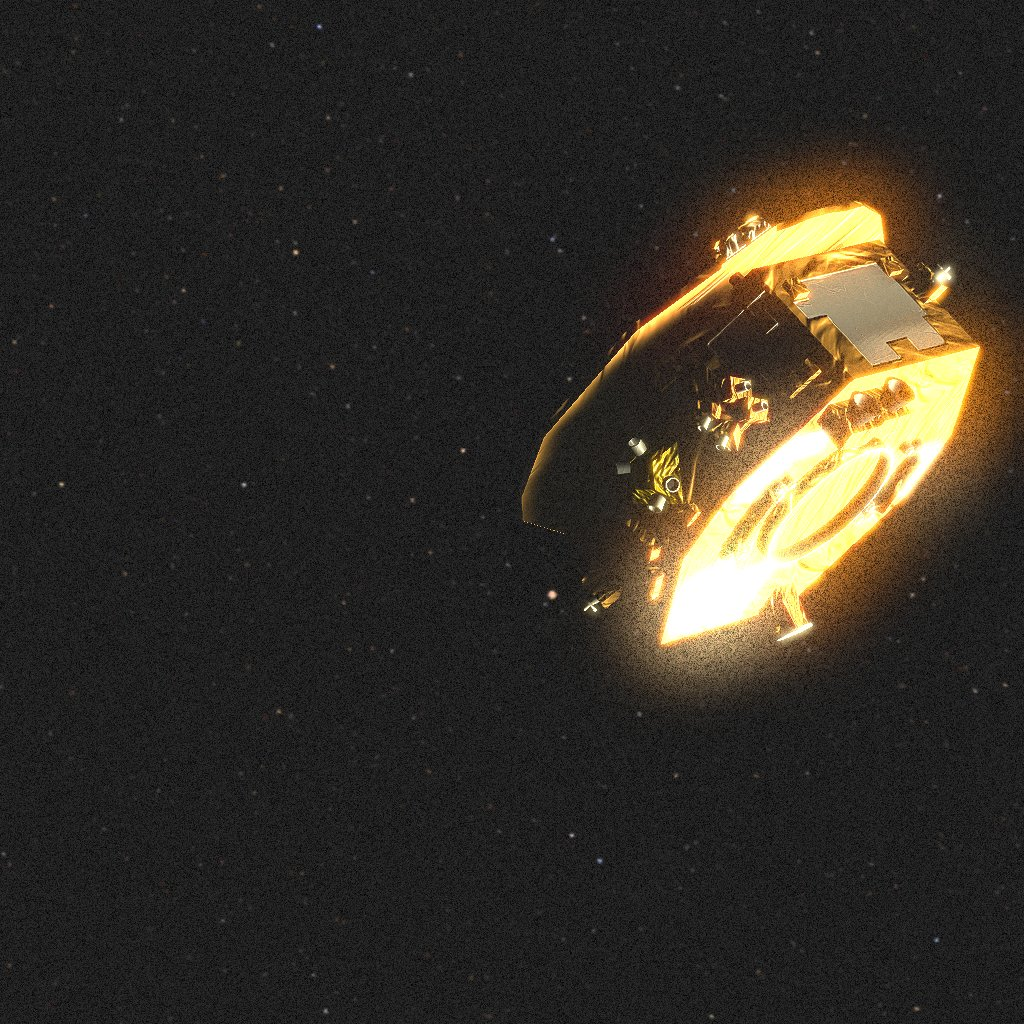lisa_pathfinder: (517, 201, 980, 644)
